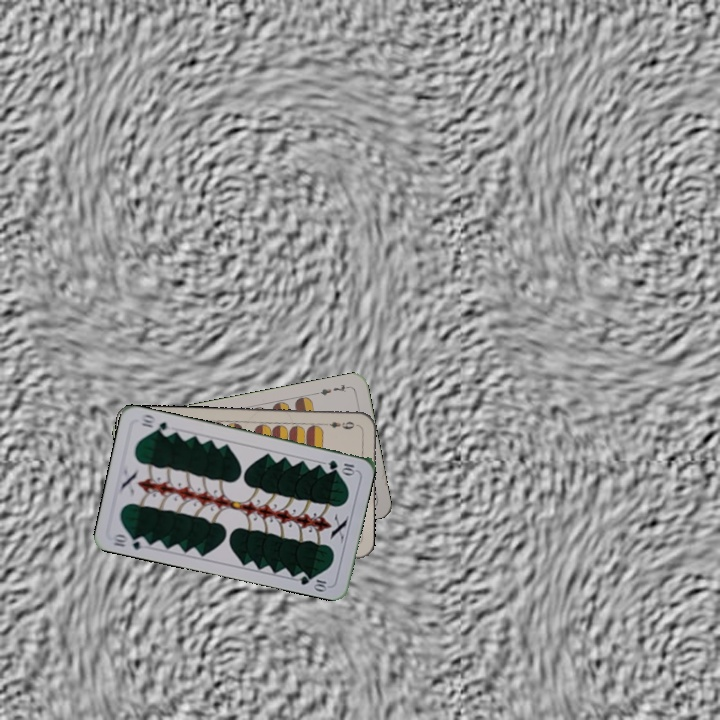E7: (312, 380, 352, 398)
E9: (320, 418, 357, 431)
G10: (108, 530, 150, 552), (324, 456, 357, 476)
